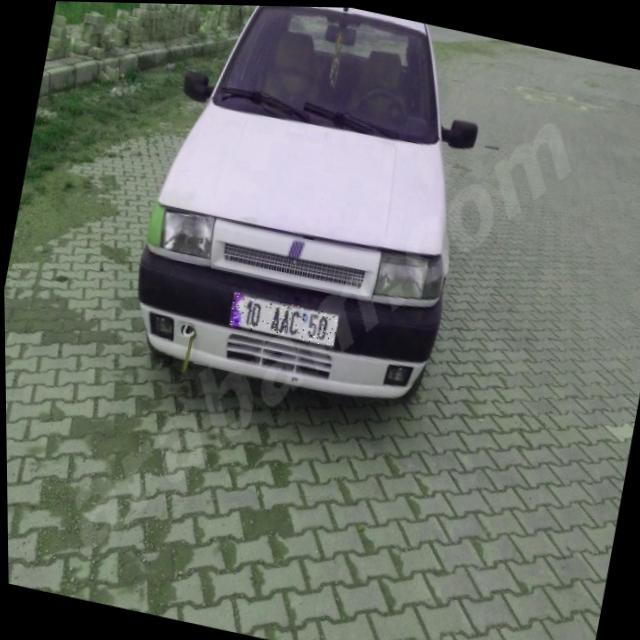license_plate: (228, 291, 338, 346)
